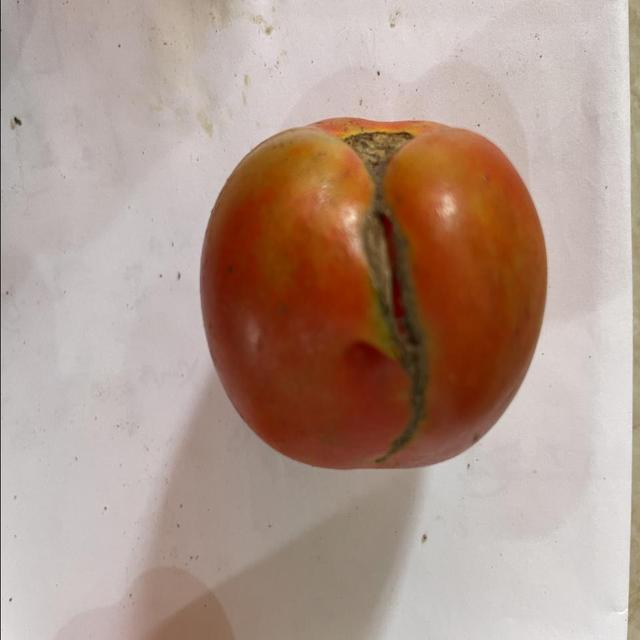Cracking Fruit: (139, 48, 376, 198)
